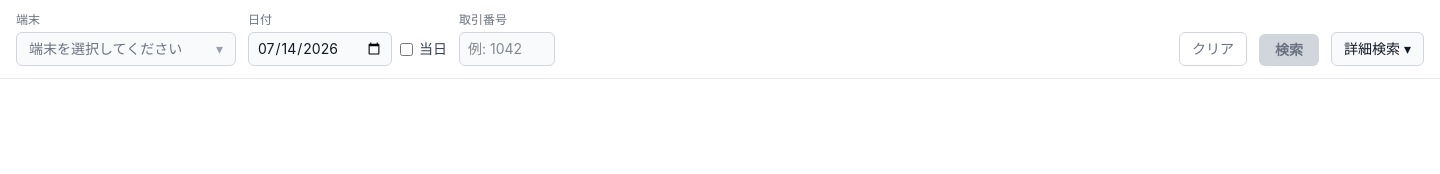
SearchBar › クリアボタン › クリアボタンを押すと、選択済みの端末・入力値がすべてリセットされる
This screenshot has width=1440, height=174.
Click the button "端末を選択してください ▾" at point(126, 49), box [16,32,236,66]
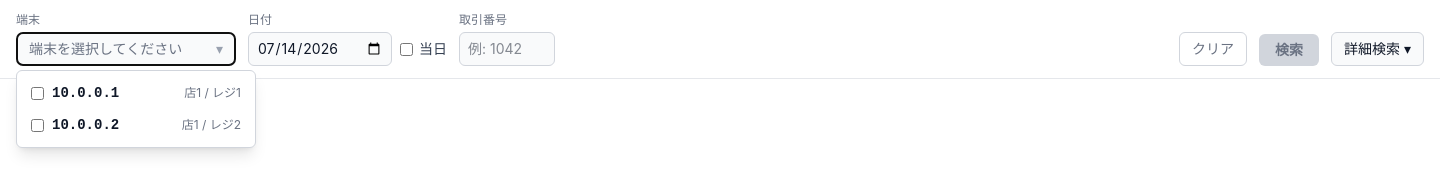
Click the text "10.0.0.1" at point(86, 93), box [52,83,119,103]
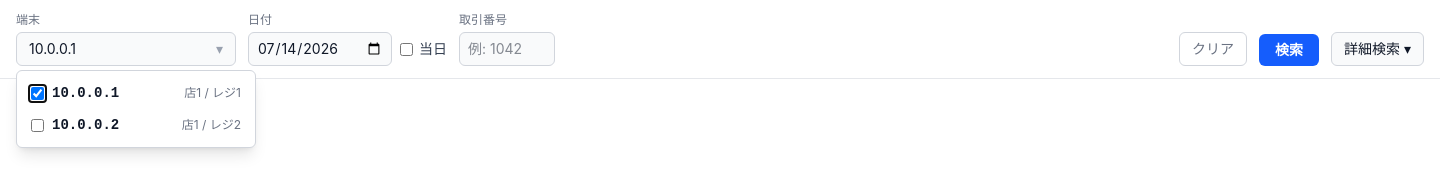
Type "42" into the number field labelled "取引番号" at point(507, 49), box [459,32,555,66]
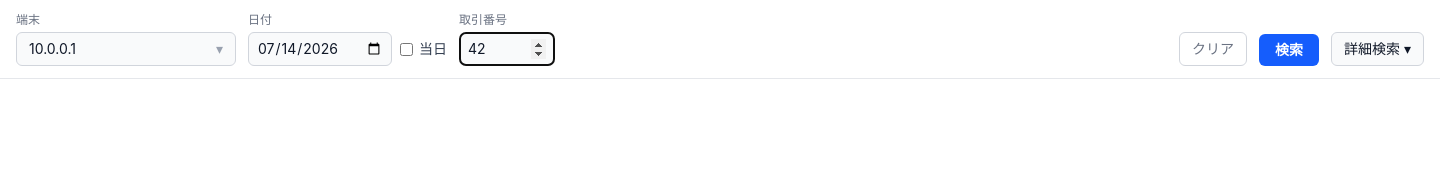
Click the checkbox labelled "当日" at point(406, 49), box [400,42,413,56]
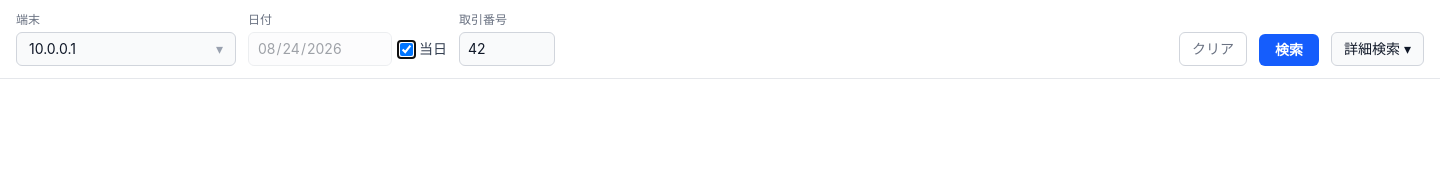
Now the button "検索" is enabled, box [1259,34,1319,66]
Click the button "クリア" at point(1213, 49), box [1179,32,1247,66]
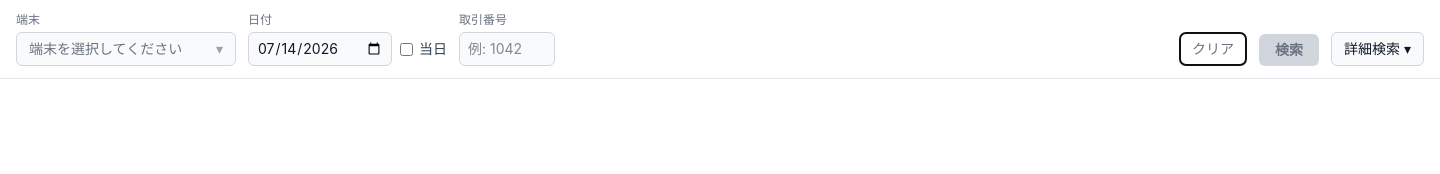
Now the checkbox labelled "当日" is not checked, box [400,42,413,56]
Now the number field labelled "取引番号" is not empty, box [459,32,555,66]
Now the button "検索" is disabled, box [1259,34,1319,66]
